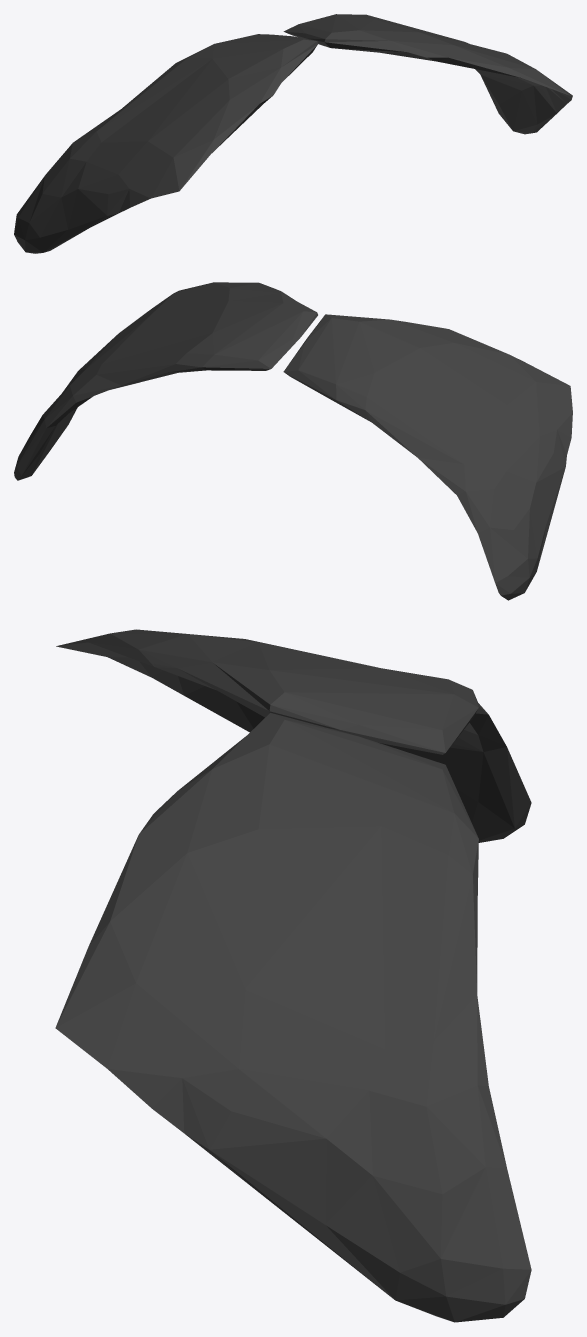
File: fascia_glutea.glb
3 renders of one model, top to bottom at view 1: azimuth 30°, elevation 25°; view 2: azimuth 150°, elevation 25°; view 3: azimuth 270°, elevation 25°, orthographic. The views are drawn at different scales.
Visible parts, largest first — view 1: fascia_glutea; view 2: fascia_glutea; view 3: fascia_glutea.
Boxes of the visible parts, x1=… form: fascia_glutea: x1=14, y1=14, x2=572, y2=253; fascia_glutea: x1=14, y1=282, x2=572, y2=600; fascia_glutea: x1=55, y1=629, x2=531, y2=1322.
Bounding box in the file's own units: 0.00921 × 0.00326 × 0.00376.
1 material, 1 textured.
